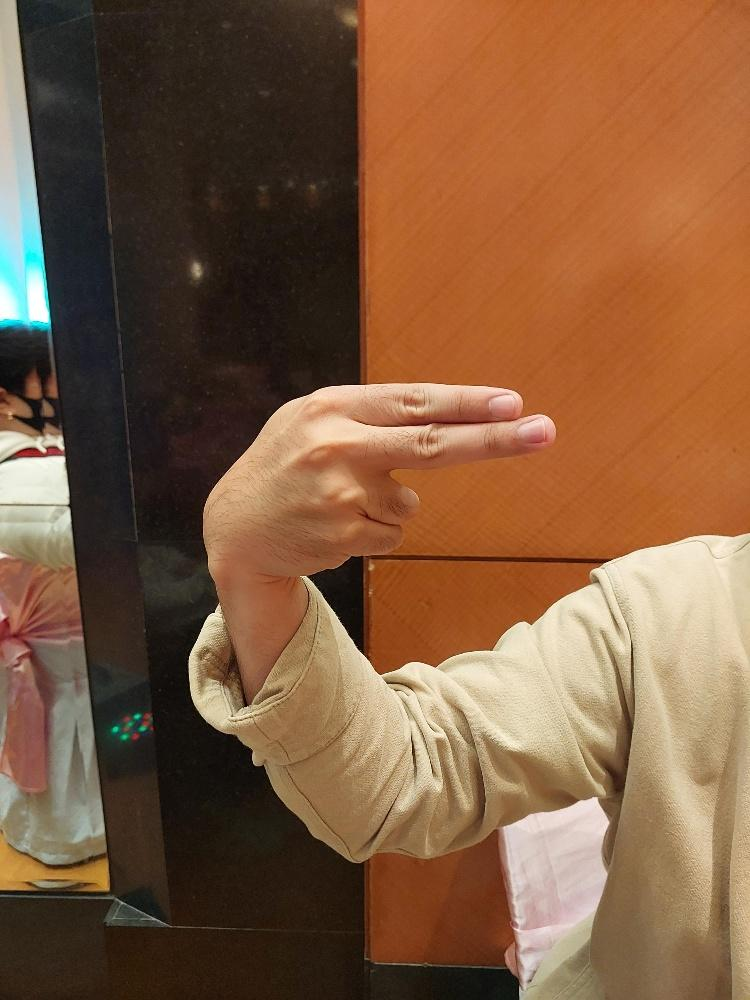h: (199, 379, 556, 578)
